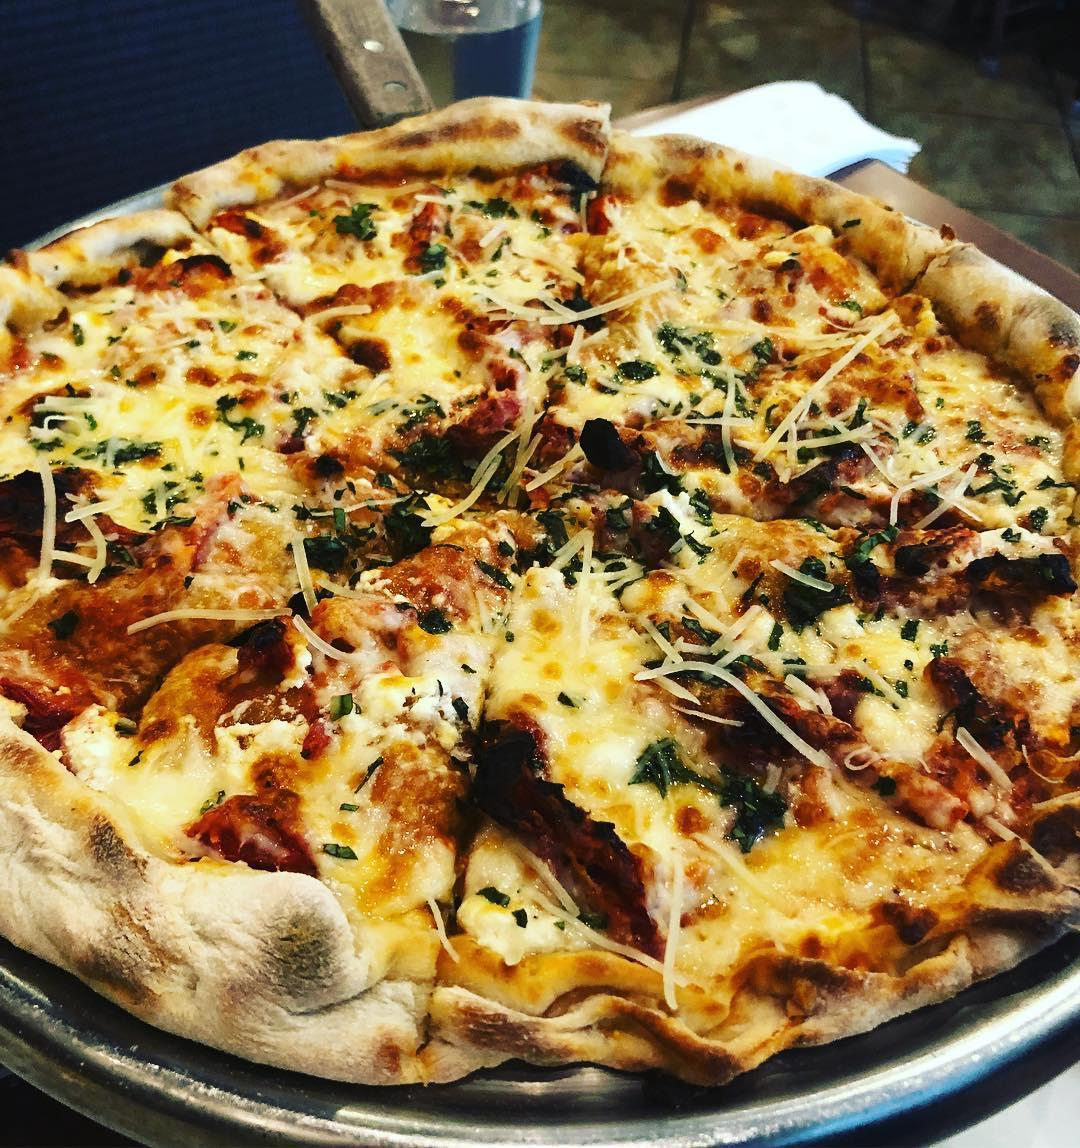Cheese: (615, 218, 755, 404), (516, 598, 633, 748), (118, 288, 295, 380), (675, 840, 856, 928), (95, 708, 231, 804)
Pizza: (8, 106, 1080, 1056)
